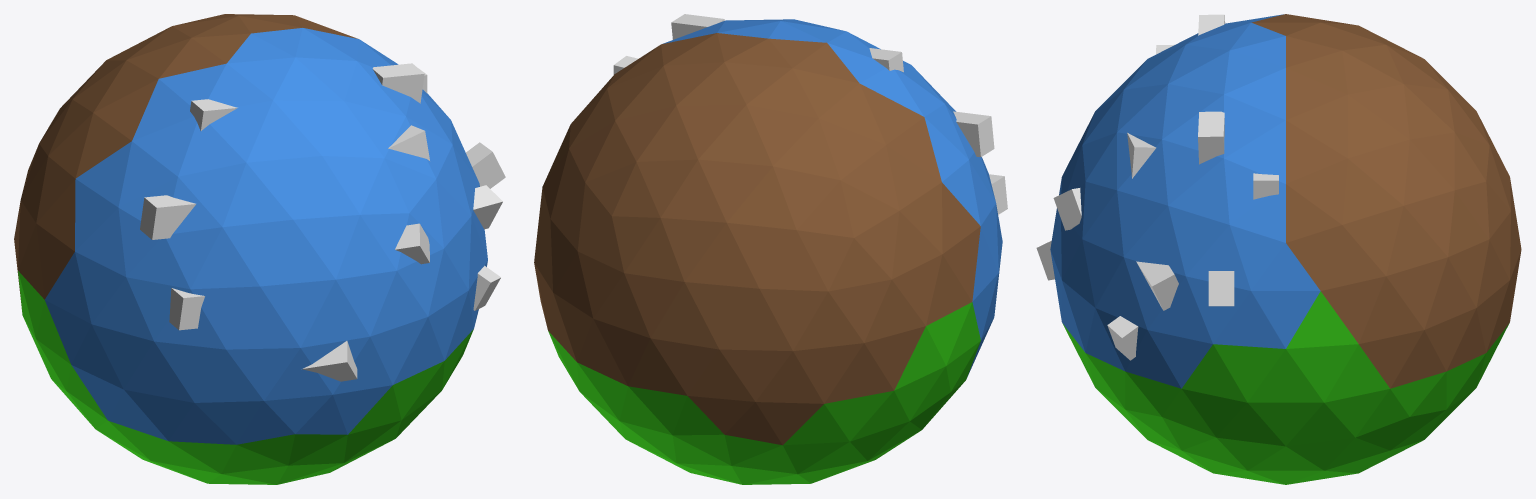
The model's file is planet 1x2o3o.fbx.
The picture shows the model from 3 angles, left to right: view 1: azimuth 30°, elevation 25°; view 2: azimuth 150°, elevation 25°; view 3: azimuth 270°, elevation 25°; orthographic projection.
Parts seen in each view (by area): view 1: Icosphere.002, Cube.014, Cube.015, Cube.013, Cube.017, Cube.019, Cube.018, Cube.011, Cube.016, Cube.020, Cube.012; view 2: Icosphere.002, Cube.014, Cube.015, Cube.016, Cube.017; view 3: Icosphere.002, Cube.015, Cube.011, Cube.019, Cube.012, Cube.018, Cube.020, Cube.021.
Part boxes in pixels (<box>): Icosphere.002: <box>14,14,487,484</box>; Cube.014: <box>140,195,195,239</box>; Cube.015: <box>372,63,424,103</box>; Cube.013: <box>302,341,357,381</box>; Cube.017: <box>169,288,204,330</box>; Cube.019: <box>466,142,505,188</box>; Cube.018: <box>395,223,429,264</box>; Cube.011: <box>473,185,502,229</box>; Cube.016: <box>190,99,237,130</box>; Cube.020: <box>388,125,429,160</box>; Cube.012: <box>473,265,500,310</box>; Icosphere.002: <box>534,19,1002,484</box>; Cube.014: <box>953,111,994,157</box>; Cube.015: <box>671,14,724,39</box>; Cube.016: <box>869,48,903,72</box>; Cube.017: <box>989,174,1007,214</box>; Icosphere.002: <box>1050,14,1521,484</box>; Cube.015: <box>1198,111,1224,164</box>; Cube.011: <box>1136,261,1178,310</box>; Cube.019: <box>1208,271,1234,306</box>; Cube.012: <box>1107,316,1138,360</box>; Cube.018: <box>1053,188,1081,230</box>; Cube.020: <box>1127,132,1156,178</box>; Cube.021: <box>1253,173,1278,199</box>.
Bounding box in the file's own units: 2045 × 2000 × 2059.
